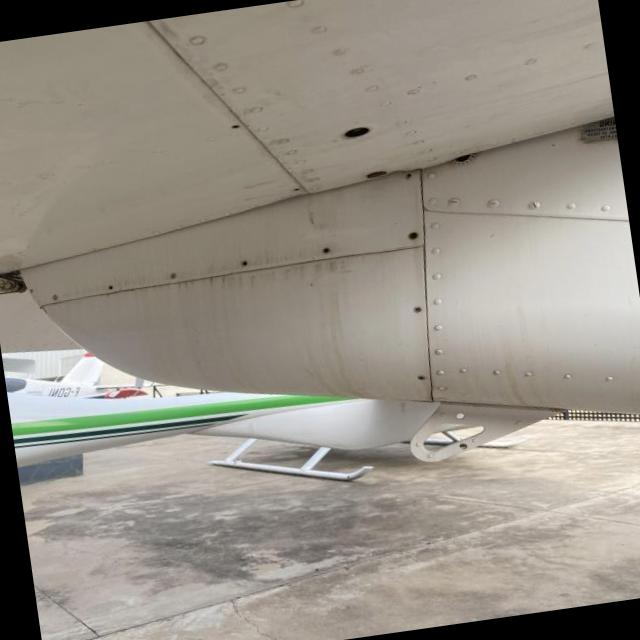Missing Fastener: (409, 230, 421, 240), (414, 304, 424, 312), (322, 246, 332, 253), (241, 258, 249, 266), (418, 374, 428, 380), (406, 171, 414, 177), (108, 284, 115, 290), (295, 187, 302, 190)
